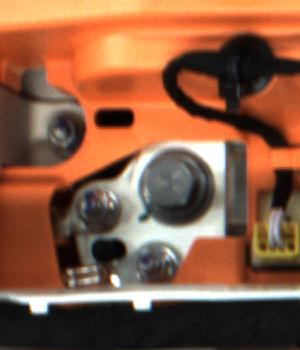nut_b: (127, 148, 225, 225)
